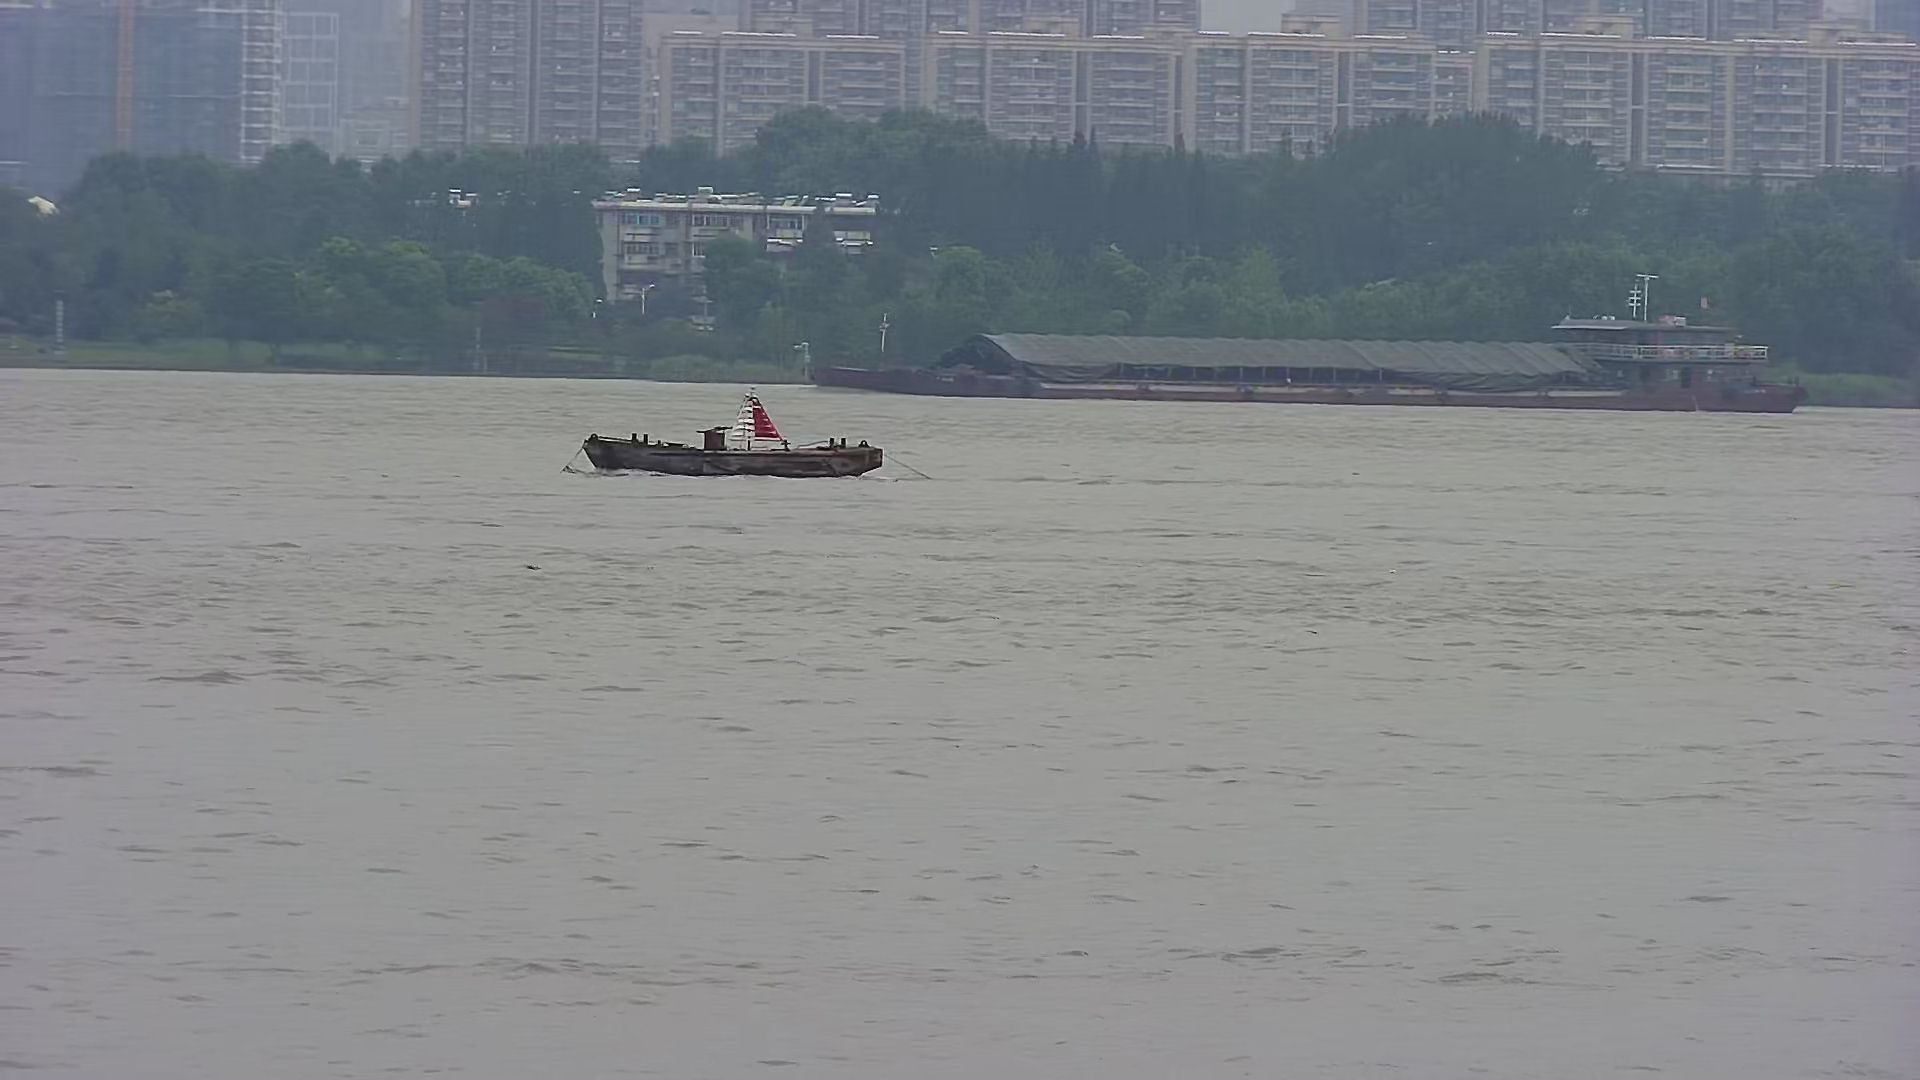boat: (574, 386, 887, 488)
ship: (764, 258, 1863, 427)
